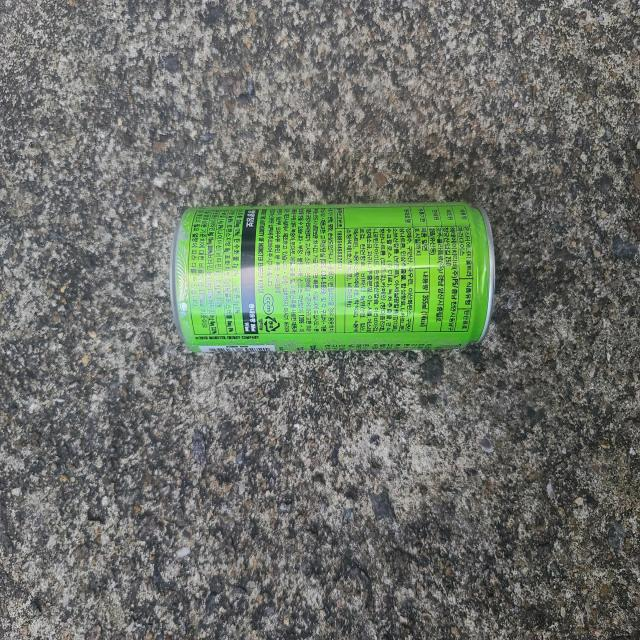can: (170, 203, 496, 352)
